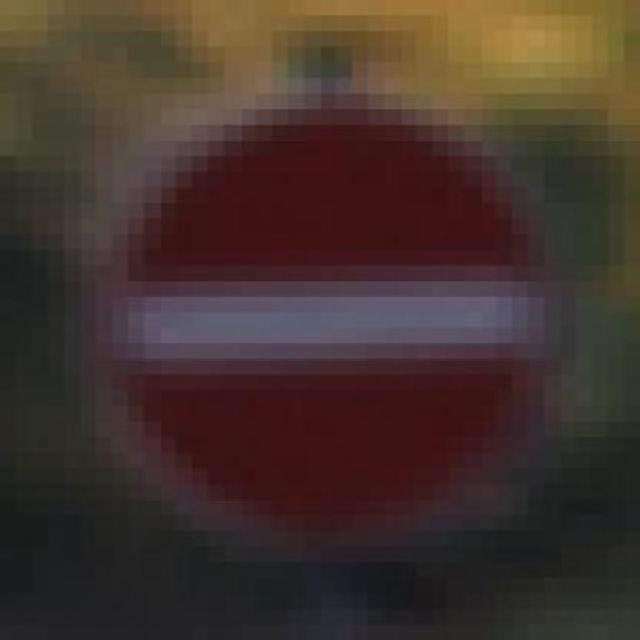No Entry: (65, 78, 560, 531)
